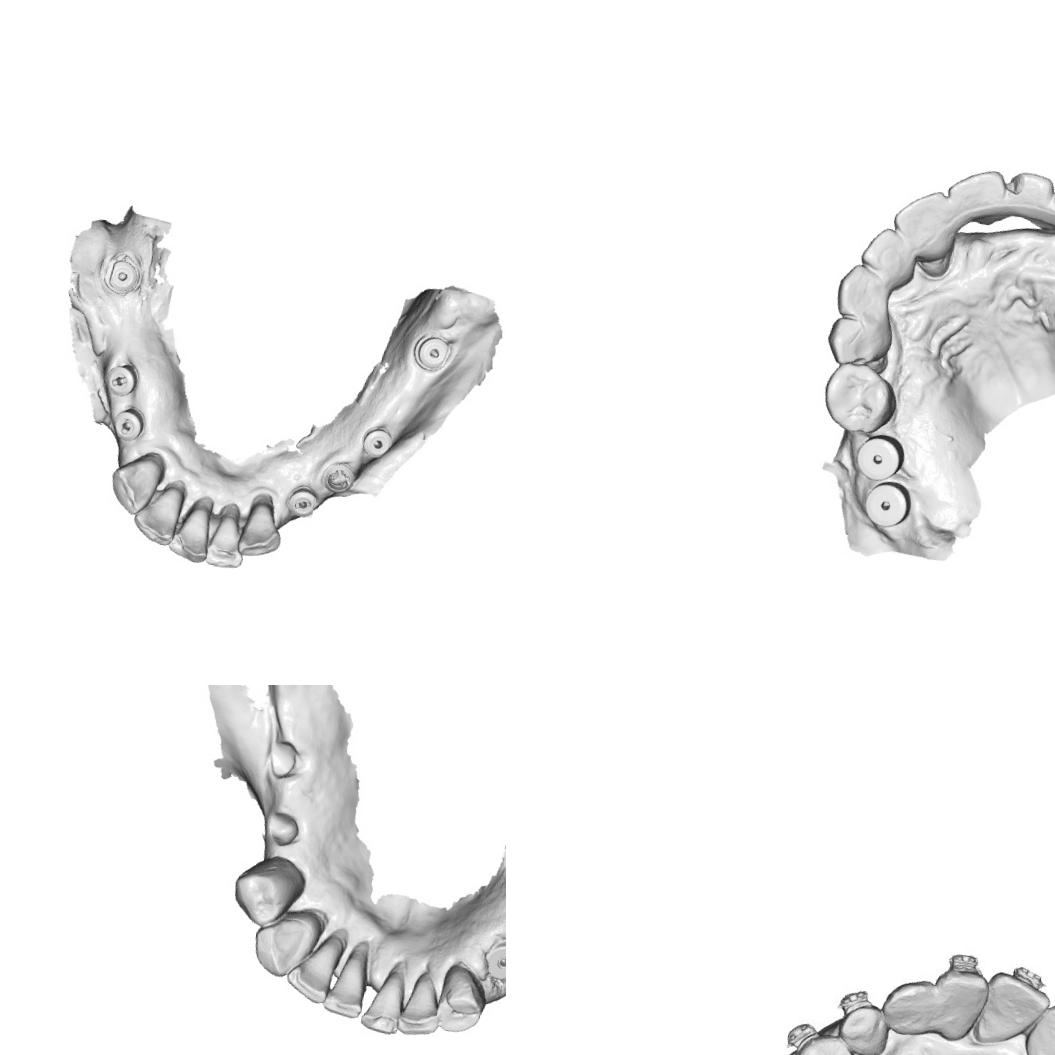canine: (246, 910, 318, 984), (832, 261, 906, 327), (430, 959, 490, 1039), (105, 451, 169, 521), (834, 999, 893, 1055)
implant: (859, 481, 914, 530), (855, 432, 905, 484), (409, 328, 455, 378), (358, 414, 403, 463), (102, 250, 140, 296), (478, 932, 506, 985)
implant_minus: (99, 362, 151, 405), (109, 400, 153, 444), (282, 482, 326, 522)
incisor: (885, 183, 960, 264), (940, 157, 1012, 231), (853, 222, 923, 290), (980, 972, 1046, 1044), (281, 932, 342, 1008), (127, 479, 188, 549), (319, 946, 375, 1022), (881, 977, 946, 1038), (202, 500, 252, 575), (236, 492, 288, 564), (164, 497, 218, 565), (394, 974, 448, 1042), (1000, 164, 1055, 229), (936, 969, 986, 1037), (359, 970, 408, 1038), (1024, 1002, 1055, 1055)
premolar: (225, 849, 309, 933), (823, 362, 902, 436), (823, 312, 888, 373), (791, 1030, 866, 1055)
